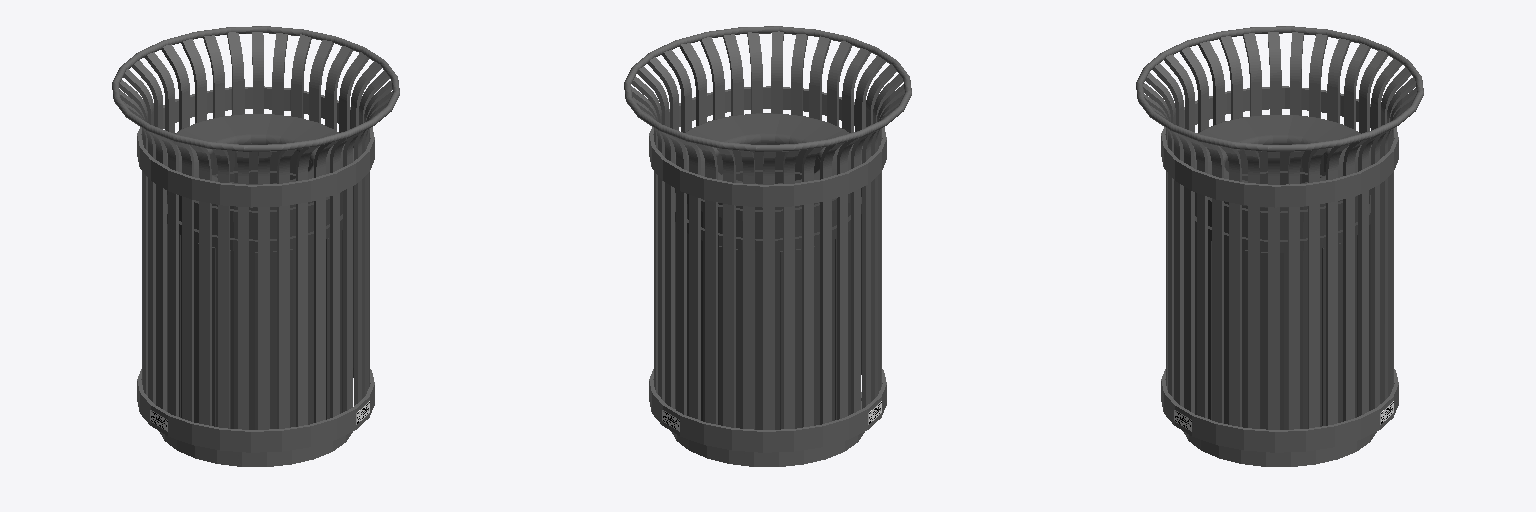
3 renders of one model, left to right at view 1: azimuth 30°, elevation 25°; view 2: azimuth 150°, elevation 25°; view 3: azimuth 270°, elevation 25°, orthographic.
Parts seen in each view (by area): view 1: mesh103_mesh103-geometry, mesh81_mesh81-geometry, mesh106_mesh106-geometry, mesh112_mesh112-geometry, mesh1_mesh1-geometry, mesh111_mesh111-geometry, mesh129_mesh129-geometry, mesh138_mesh138-geometry, mesh133_mesh133-geometry, mesh124_mesh124-geometry, mesh120_mesh120-geometry, mesh113_mesh113-geometry (+28 smaller); view 2: mesh81_mesh81-geometry, mesh103_mesh103-geometry, mesh106_mesh106-geometry, mesh112_mesh112-geometry, mesh1_mesh1-geometry, mesh115_mesh115-geometry, mesh123_mesh123-geometry, mesh116_mesh116-geometry, mesh118_mesh118-geometry, mesh114_mesh114-geometry, mesh127_mesh127-geometry, mesh119_mesh119-geometry (+28 smaller); view 3: mesh81_mesh81-geometry, mesh103_mesh103-geometry, mesh106_mesh106-geometry, mesh112_mesh112-geometry, mesh1_mesh1-geometry, mesh130_mesh130-geometry, mesh136_mesh136-geometry, mesh104_mesh104-geometry, mesh126_mesh126-geometry, mesh110_mesh110-geometry, mesh105_mesh105-geometry, mesh131_mesh131-geometry (+28 smaller).
Part boxes in pixels (bbox=[...]): mesh103_mesh103-geometry: bbox=[137, 86, 374, 428]; mesh81_mesh81-geometry: bbox=[167, 143, 342, 429]; mesh106_mesh106-geometry: bbox=[137, 368, 374, 452]; mesh112_mesh112-geometry: bbox=[112, 26, 399, 151]; mesh1_mesh1-geometry: bbox=[166, 114, 353, 207]; mesh111_mesh111-geometry: bbox=[277, 149, 296, 428]; mesh129_mesh129-geometry: bbox=[190, 145, 211, 425]; mesh138_mesh138-geometry: bbox=[296, 146, 318, 426]; mesh133_mesh133-geometry: bbox=[258, 152, 271, 429]; mesh124_mesh124-geometry: bbox=[314, 140, 339, 422]; mesh120_mesh120-geometry: bbox=[170, 140, 193, 421]; mesh113_mesh113-geometry: bbox=[236, 151, 248, 429]; mesh81_mesh81-geometry: bbox=[675, 143, 861, 429]; mesh103_mesh103-geometry: bbox=[649, 74, 903, 207]; mesh106_mesh106-geometry: bbox=[649, 365, 886, 452]; mesh112_mesh112-geometry: bbox=[624, 26, 911, 151]; mesh1_mesh1-geometry: bbox=[675, 113, 862, 184]; mesh115_mesh115-geometry: bbox=[717, 148, 735, 427]; mesh123_mesh123-geometry: bbox=[694, 143, 717, 424]; mesh116_mesh116-geometry: bbox=[802, 147, 823, 427]; mesh118_mesh118-geometry: bbox=[783, 150, 800, 428]; mesh114_mesh114-geometry: bbox=[820, 142, 844, 424]; mesh127_mesh127-geometry: bbox=[763, 152, 775, 429]; mesh119_mesh119-geometry: bbox=[740, 151, 754, 429]; mesh81_mesh81-geometry: bbox=[1195, 144, 1370, 429]; mesh103_mesh103-geometry: bbox=[1161, 47, 1398, 207]; mesh106_mesh106-geometry: bbox=[1161, 369, 1398, 452]; mesh112_mesh112-geometry: bbox=[1136, 26, 1423, 151]; mesh1_mesh1-geometry: bbox=[1193, 115, 1371, 207]; mesh130_mesh130-geometry: bbox=[1220, 146, 1241, 426]; mesh136_mesh136-geometry: bbox=[1308, 148, 1327, 428]; mesh104_mesh104-geometry: bbox=[1326, 144, 1349, 425]; mesh126_mesh126-geometry: bbox=[1244, 150, 1259, 428]; mesh110_mesh110-geometry: bbox=[1201, 142, 1223, 423]; mesh105_mesh105-geometry: bbox=[1288, 151, 1304, 429]; mesh131_mesh131-geometry: bbox=[1268, 152, 1279, 429].
Size of the model in its own units: 0.5203 by 0.6771 by 0.5203.
Materials: 5 (1 with a texture image).